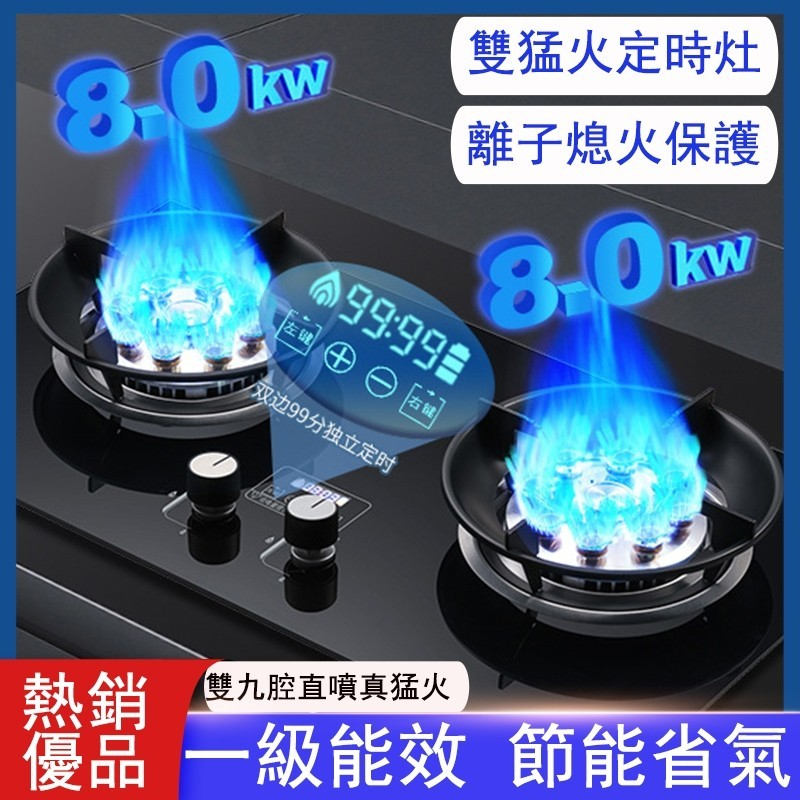gasoven: (13, 184, 800, 711)
